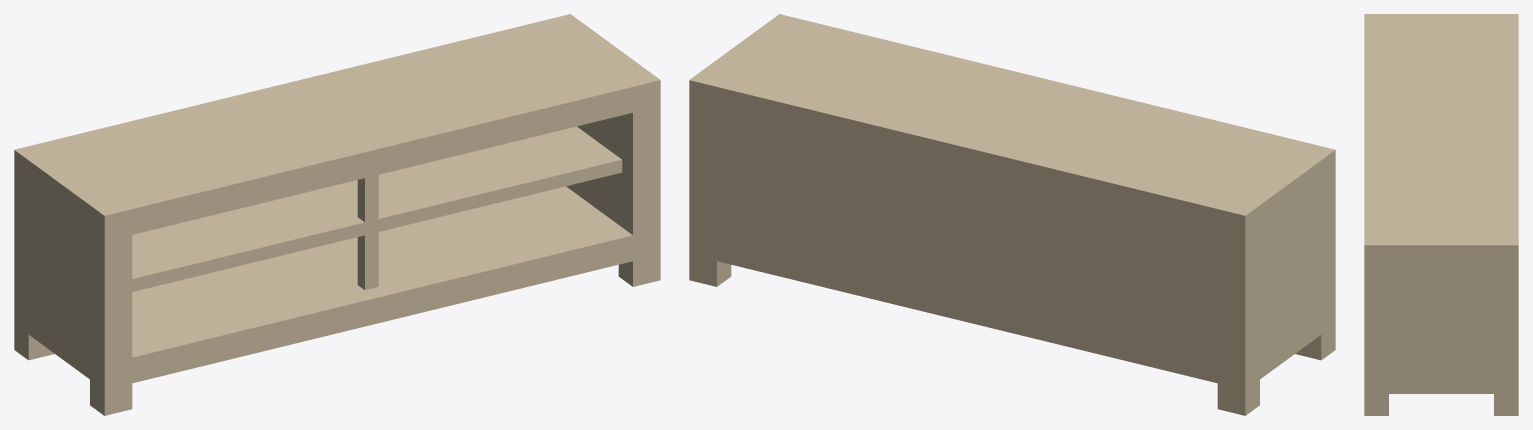
Rendered from tvunit.glb.
3 renders of one model, left to right at view 1: azimuth 30°, elevation 25°; view 2: azimuth 150°, elevation 25°; view 3: azimuth 270°, elevation 25°, orthographic. The views are drawn at different scales.
Parts seen in each view (by area): view 1: cabinetTelevision(Clone); view 2: cabinetTelevision(Clone); view 3: cabinetTelevision(Clone).
Part boxes in pixels (<box>): cabinetTelevision(Clone): <box>14,14,660,415</box>; cabinetTelevision(Clone): <box>689,14,1335,415</box>; cabinetTelevision(Clone): <box>1364,14,1518,415</box>.
Bounding box in the file's own units: 1.6 × 0.55 × 0.45.
